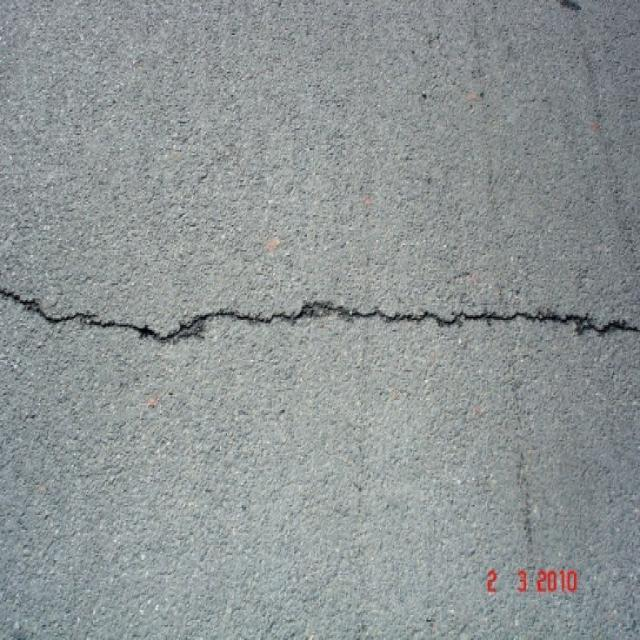Transverse: (0, 281, 640, 349)
